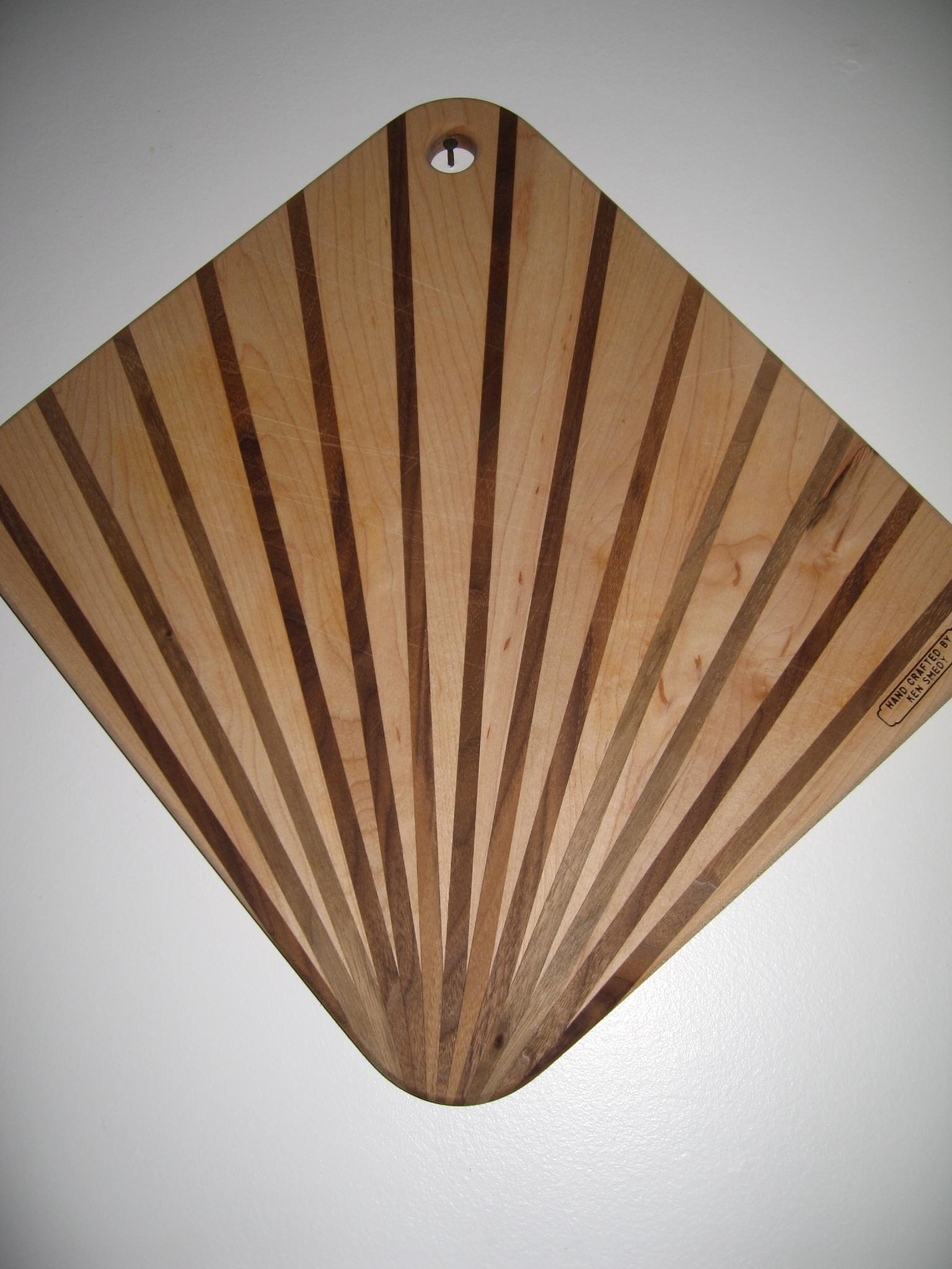gloved_hand: (0, 84, 952, 1120)
